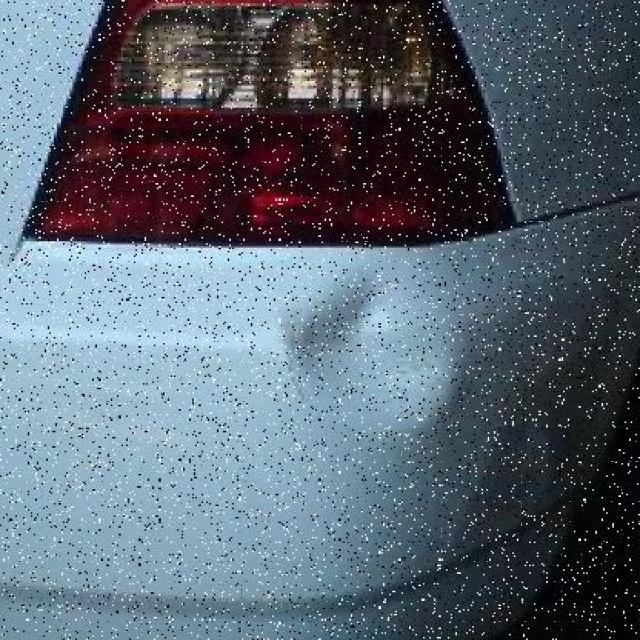car damage: (290, 255, 470, 442), (469, 412, 573, 546)
